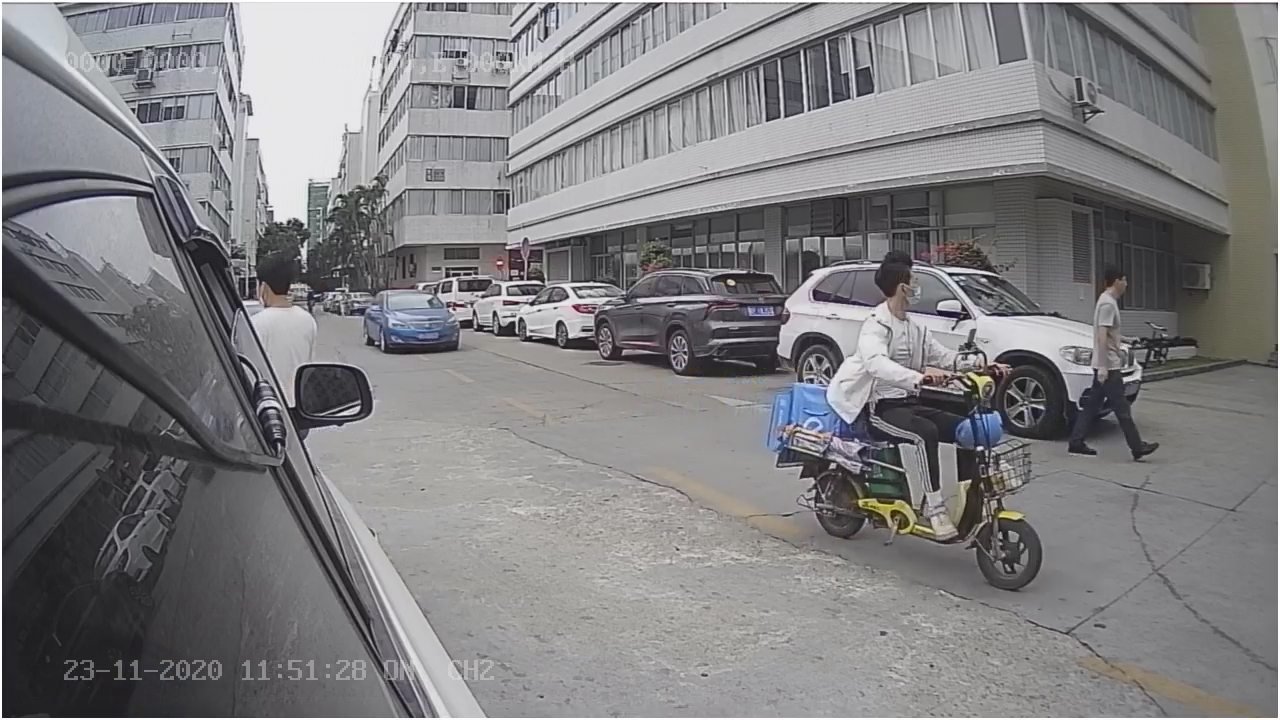person: (1067, 253, 1161, 460), (858, 246, 983, 387)
